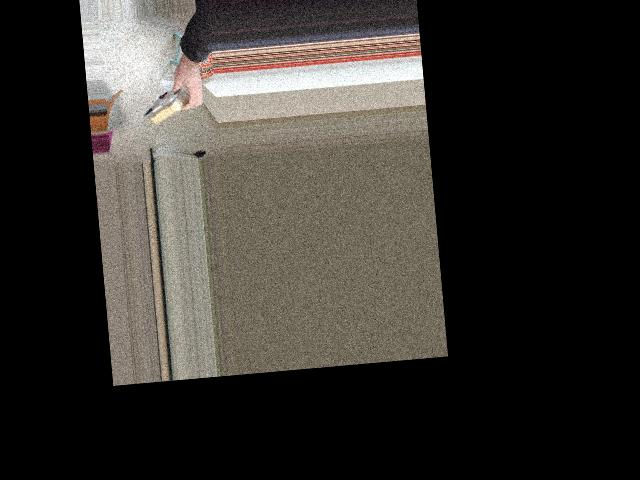cheese: (138, 72, 214, 135)
